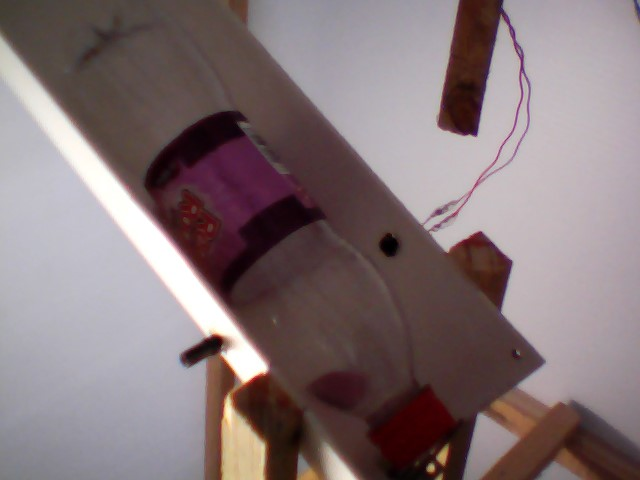plastico: (52, 7, 459, 472)
